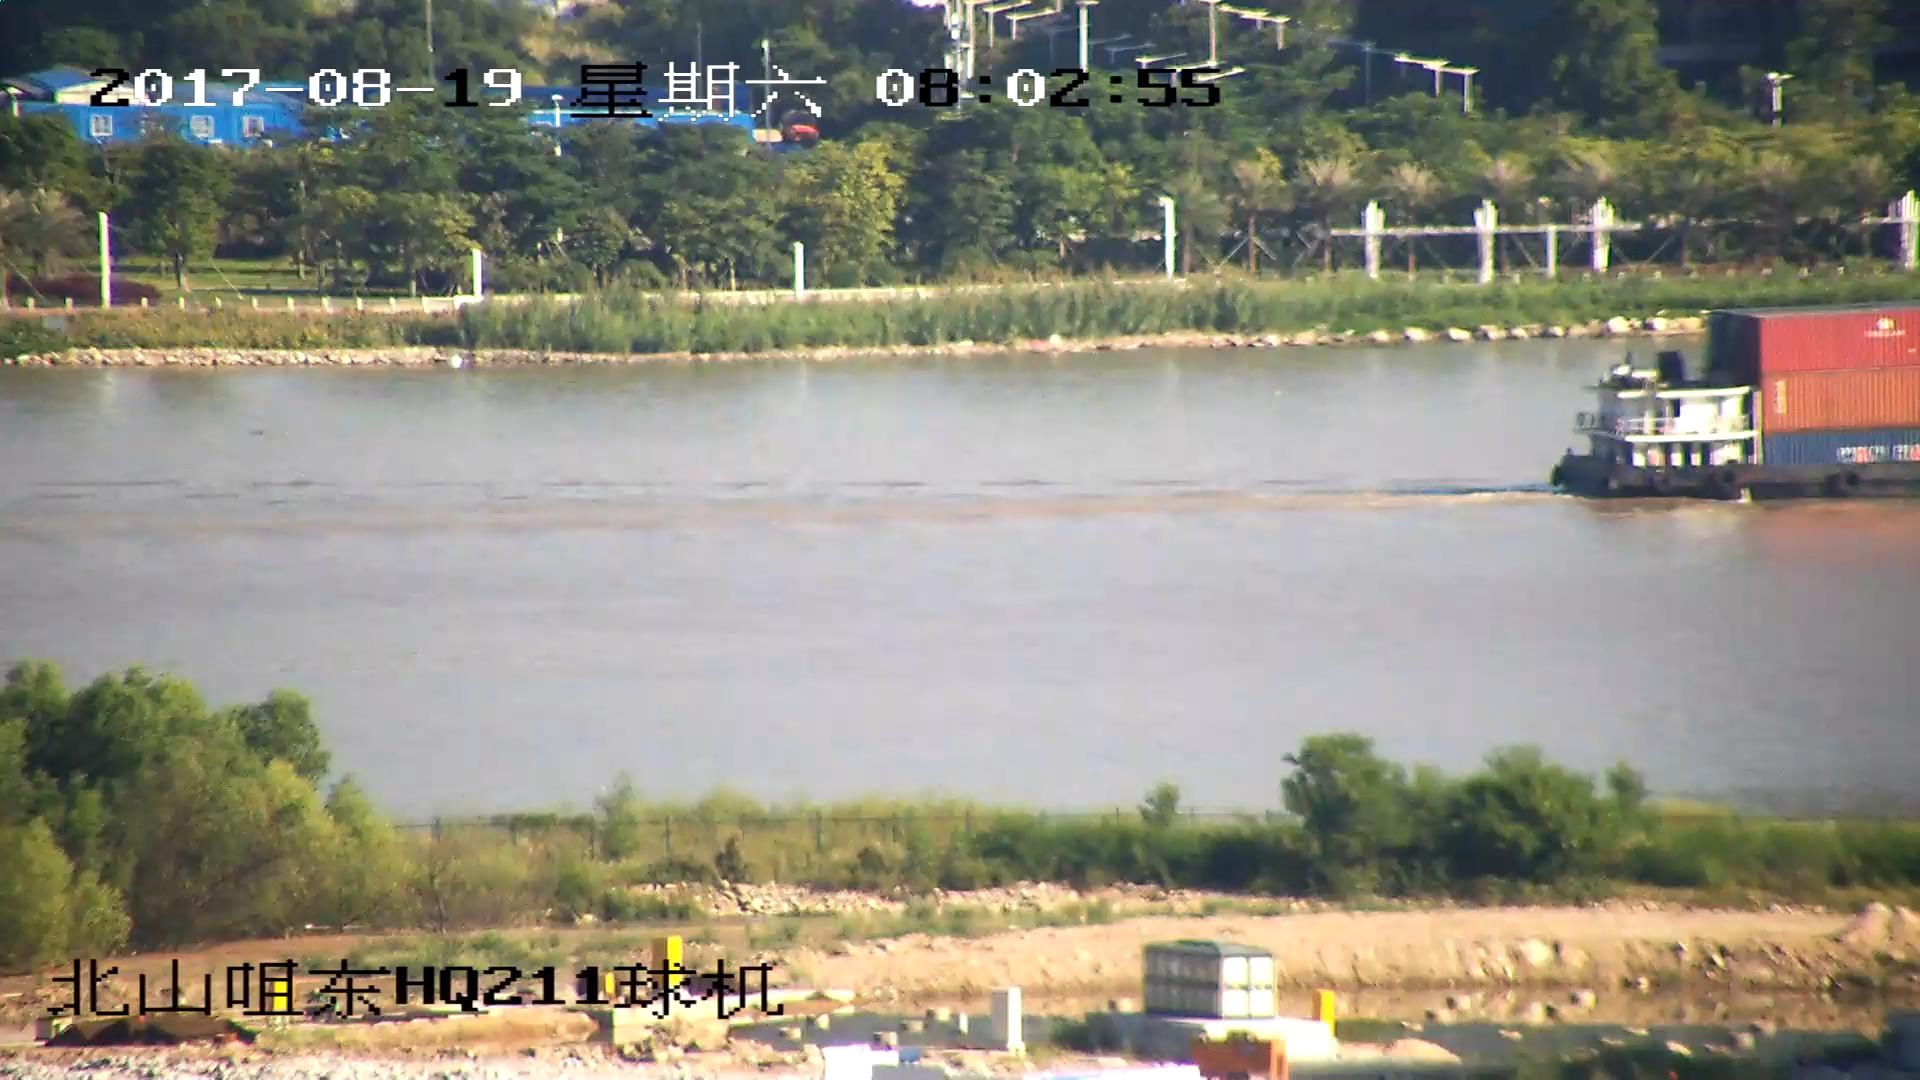container ship: (1546, 303, 1920, 503)
